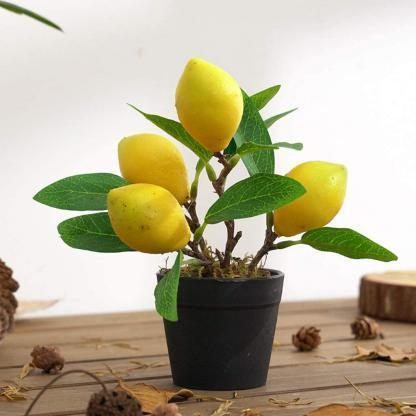lemon: (175, 56, 244, 152), (107, 183, 191, 253), (273, 160, 348, 238), (118, 134, 190, 205)
